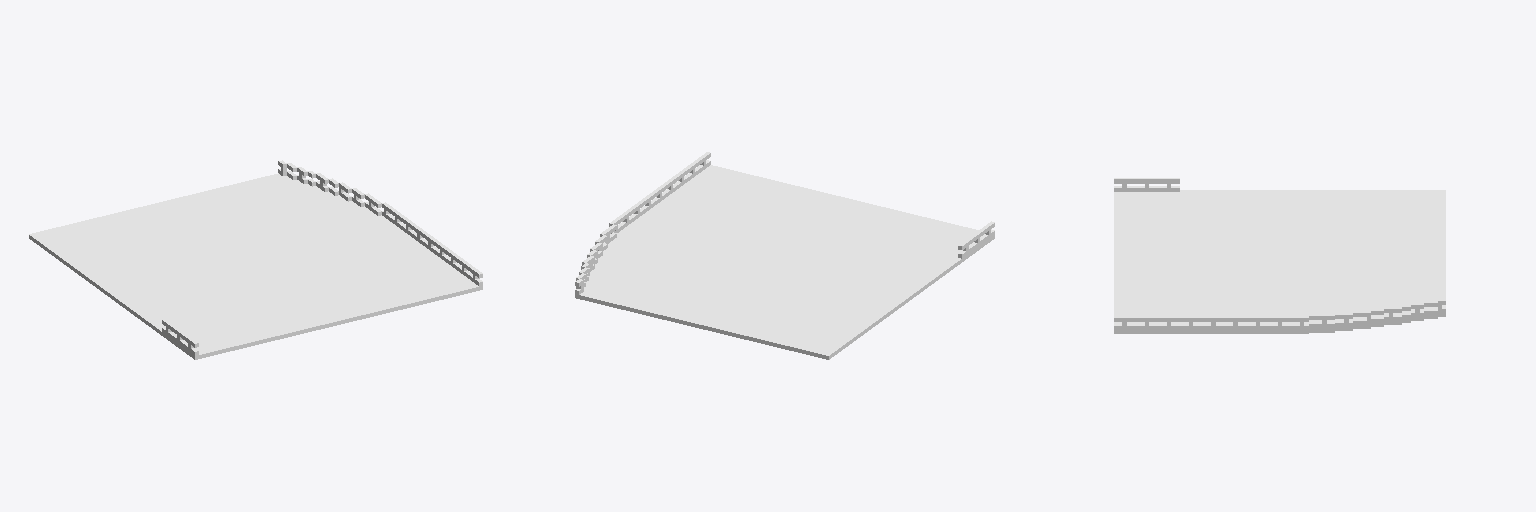
The model's file is 90_Large-2.obj.
The picture shows the model from 3 angles: view 1: azimuth 30°, elevation 25°; view 2: azimuth 150°, elevation 25°; view 3: azimuth 270°, elevation 25°; orthographic projection.
Parts seen in each view (by area): view 1: 90_Large-2; view 2: 90_Large-2; view 3: 90_Large-2.
Boxes of the visible parts, x1=… form: 90_Large-2: x1=29, y1=160, x2=482, y2=359; 90_Large-2: x1=575, y1=152, x2=994, y2=359; 90_Large-2: x1=1114, y1=178, x2=1445, y2=333.
Bounding box in the file's own units: 75 × 4 × 75.